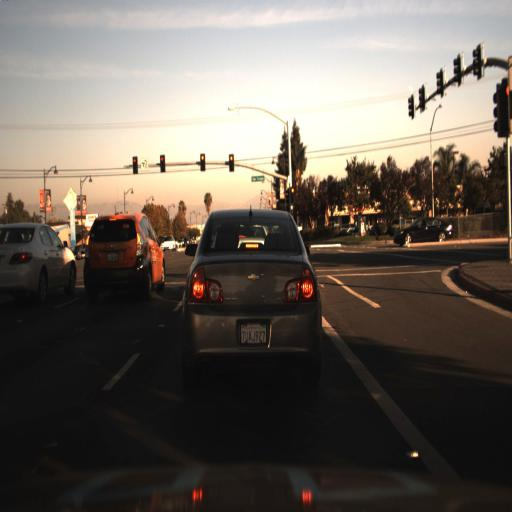car: (182, 209, 324, 387), (84, 210, 164, 295), (1, 221, 75, 307), (388, 211, 458, 253), (393, 214, 454, 247), (157, 234, 177, 255)
trafficLight-Red: (223, 152, 234, 176), (198, 152, 206, 175), (287, 185, 297, 203), (131, 154, 140, 169), (156, 152, 166, 165)
trafficLight-RedLeft: (158, 149, 169, 176), (131, 153, 139, 177)
